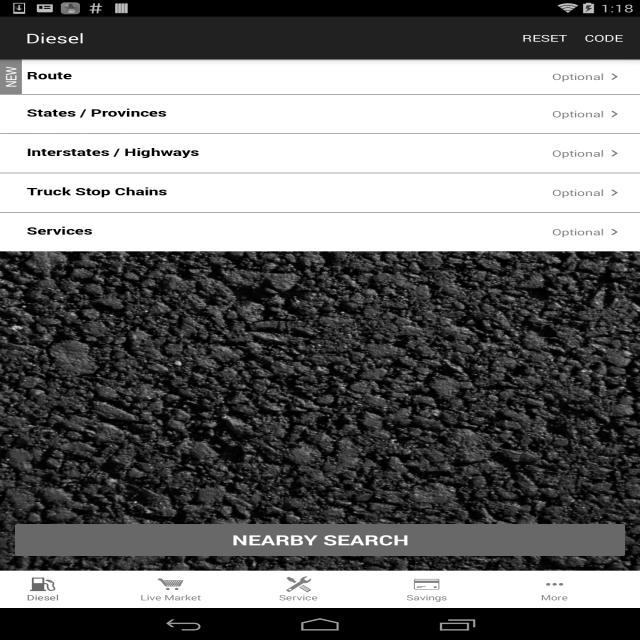Button: (11, 520, 629, 560)
EditText: (27, 143, 552, 160), (27, 67, 552, 83), (27, 104, 552, 120), (27, 183, 552, 199), (27, 222, 552, 238)
ImageView: (0, 59, 32, 94), (601, 70, 638, 83), (30, 576, 55, 592), (94, 576, 119, 592), (158, 576, 183, 592), (222, 576, 247, 592), (286, 576, 311, 592), (350, 576, 375, 592), (414, 576, 439, 592), (478, 576, 503, 592), (542, 576, 567, 592), (606, 576, 631, 592), (602, 107, 627, 121), (602, 225, 627, 239), (602, 147, 627, 160), (602, 186, 627, 199)
TextView: (513, 22, 576, 54), (576, 22, 631, 54), (26, 29, 84, 47), (552, 70, 606, 82), (552, 108, 606, 120), (552, 148, 606, 160), (552, 186, 606, 198), (552, 226, 606, 238), (140, 592, 201, 602), (406, 592, 447, 602), (279, 592, 318, 602), (26, 592, 58, 602), (541, 592, 568, 602)
